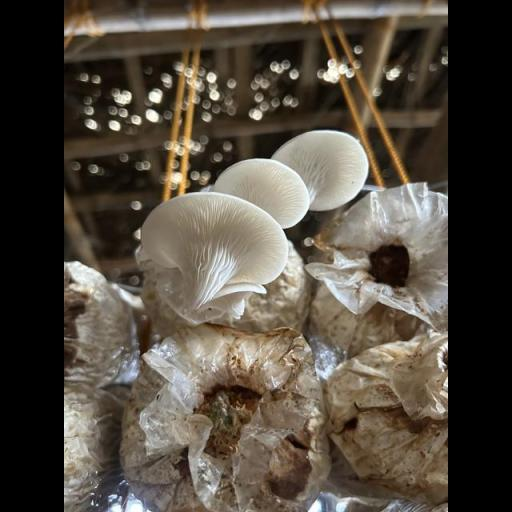White Oyster Mushroom: (124, 114, 380, 312)
